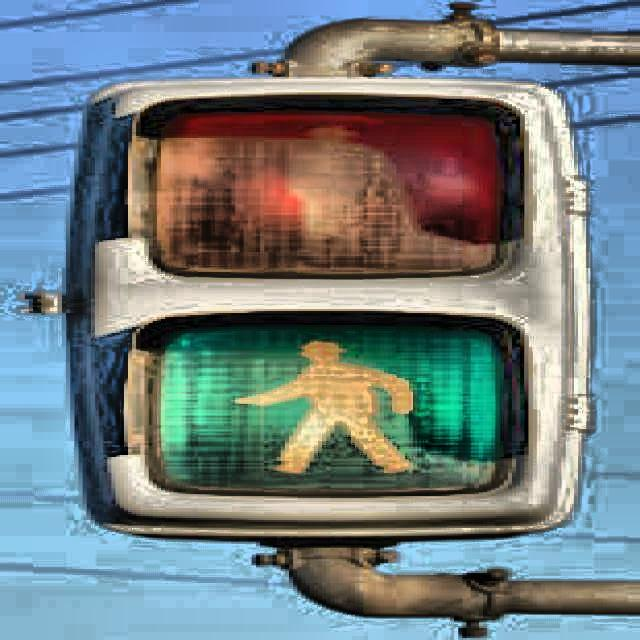semaforo pedestre: (35, 35, 618, 593)
